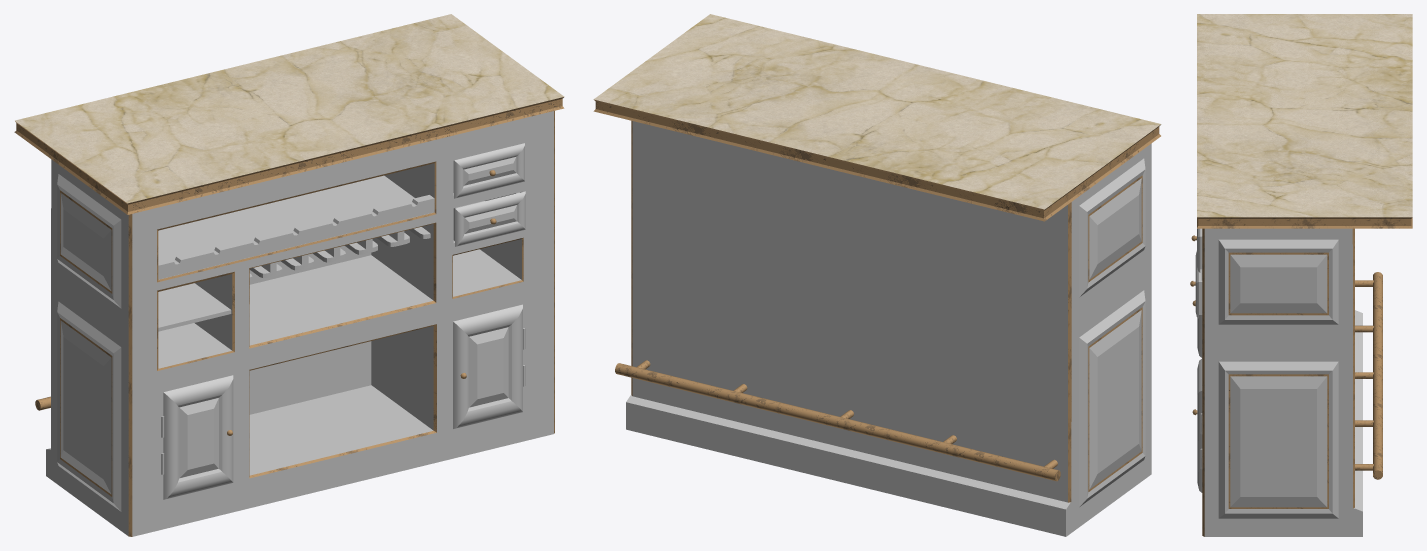
Rendered from Wine_Bar.FBX.
3 renders of one model, left to right at view 1: azimuth 30°, elevation 25°; view 2: azimuth 150°, elevation 25°; view 3: azimuth 270°, elevation 25°, orthographic. The views are drawn at different scales.
Parts seen in each view (by area): view 1: Wine_Bar, Bar_Door_02, Bar_Door_01, Bar_Drawer_02, Bar_Drawer_01; view 2: Wine_Bar; view 3: Wine_Bar, Bar_Door_01, Bar_Drawer_02, Bar_Drawer_01.
Boxes of the visible parts, left/top/right/bottom form: Wine_Bar: left=14, top=14, right=564, bottom=536; Bar_Door_02: left=161, top=375, right=233, bottom=499; Bar_Door_01: left=453, top=304, right=525, bottom=428; Bar_Drawer_02: left=453, top=191, right=525, bottom=246; Bar_Drawer_01: left=453, top=143, right=524, bottom=198; Wine_Bar: left=593, top=14, right=1161, bottom=536; Wine_Bar: left=1197, top=14, right=1412, bottom=536; Bar_Door_01: left=1192, top=358, right=1202, bottom=492; Bar_Drawer_02: left=1190, top=251, right=1202, bottom=318; Bar_Drawer_01: left=1191, top=228, right=1202, bottom=272.
Size of the model in its own units: 173 by 127 by 79.58.
